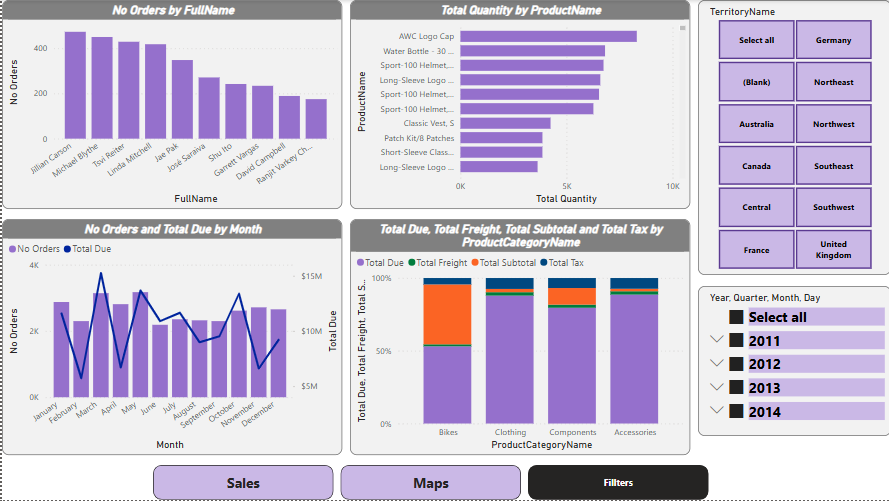

What the dashboard file says about the page in this screenshot:
{"tool":"powerbi","page":{"name":"Fillters","canvas":[1280,720],"ordinal":3},"visuals":[{"type":"pageNavigator","box":[217.4,669.6,800.6,50.4],"z":0},{"type":"columnChart","fields":{"Category":["SalesPerson.FullName"],"Y":["OrderDetail.No Orders"]},"box":[0,0,490.5,300.7],"z":1000},{"type":"slicer","fields":{"Values":["Territory.TerritoryName"]},"box":[1002.2,0,277.9,396],"z":2000},{"type":"slicer","fields":{"Values":["Date.Date.Variation.Date Hierarchy.Year","Date.Date.Variation.Date Hierarchy.Quarter","Date.Date.Variation.Date Hierarchy.Month","Date.Date.Variation.Date Hierarchy.Day"]},"box":[1002.2,411.8,277.9,216],"z":3000},{"type":"barChart","fields":{"Y":["OrderDetail.Total Quantity"],"Category":["Product.ProductName Hierarchy.ProductName","Product.ProductName Hierarchy.ProductCategoryName","Product.ProductName Hierarchy.ProductSubCategoryName"]},"box":[501.1,0,489.6,301],"z":4000},{"type":"hundredPercentStackedColumnChart","fields":{"Y":["OrderDetail.Total Due","OrderDetail.Total Freight","OrderDetail.Total Subtotal","OrderDetail.Total Tax"],"Category":["Product.ProductCategoryName"]},"box":[501.1,315.4,489.6,339.8],"z":6000},{"type":"lineStackedColumnComboChart","fields":{"Category":["Date.Date.Variation.Date Hierarchy.Month"],"Y":["OrderDetail.No Orders"],"Y2":["OrderDetail.Total Due"]},"box":[0,315,490,340],"z":6001}]}

Visuals, with their boxes in screenshot pixels (x1, y1, x2, y2), scaled from the page's 1280x720 canvas onto the 889x501 screenshot:
pageNavigator: (151, 466, 707, 500)
columnChart - SalesPerson.FullName x OrderDetail.No Orders: (0, 0, 341, 209)
slicer - Territory.TerritoryName: (696, 0, 888, 276)
slicer - Date.Date.Variation.Date Hierarchy.Year x Date.Date.Variation.Date Hierarchy.Quarter: (696, 287, 888, 437)
barChart - OrderDetail.Total Quantity x Product.ProductName Hierarchy.ProductName: (348, 0, 688, 209)
hundredPercentStackedColumnChart - OrderDetail.Total Due x OrderDetail.Total Freight: (348, 219, 688, 456)
lineStackedColumnComboChart - Date.Date.Variation.Date Hierarchy.Month x OrderDetail.No Orders: (0, 219, 340, 456)
